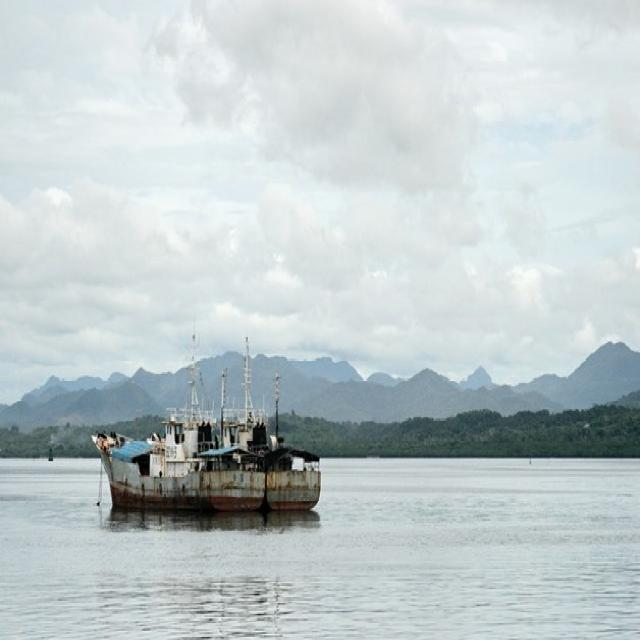fishing boat: (88, 329, 323, 508)
